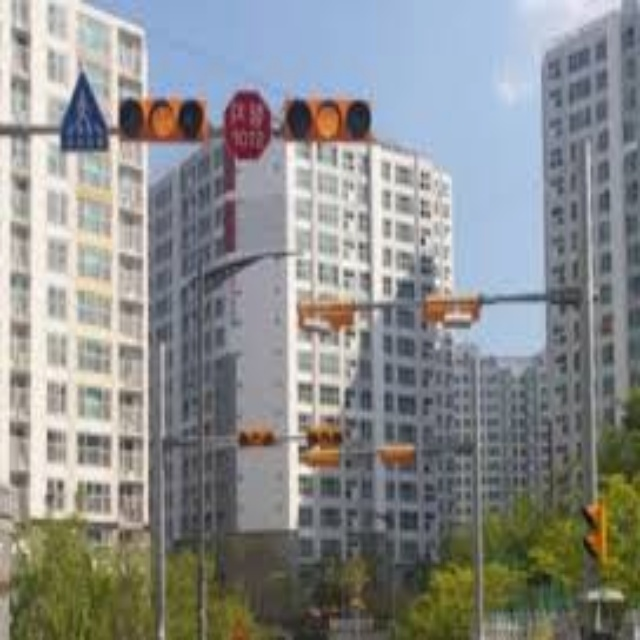yellow_light: (150, 102, 176, 137), (315, 105, 341, 136)
